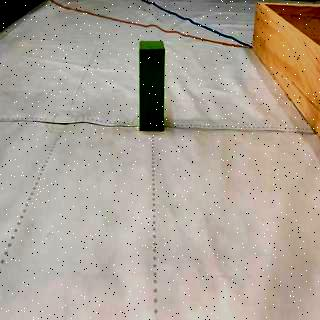greenbox: (140, 39, 167, 133)
